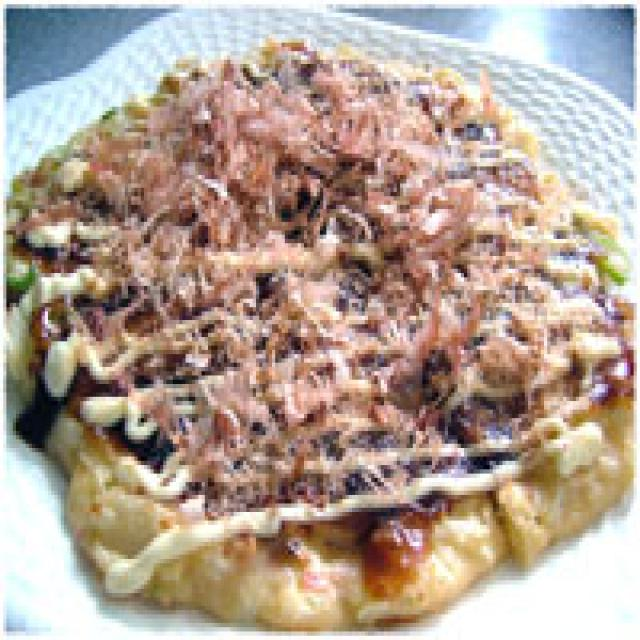蛋糕甜品: (12, 21, 618, 619)
